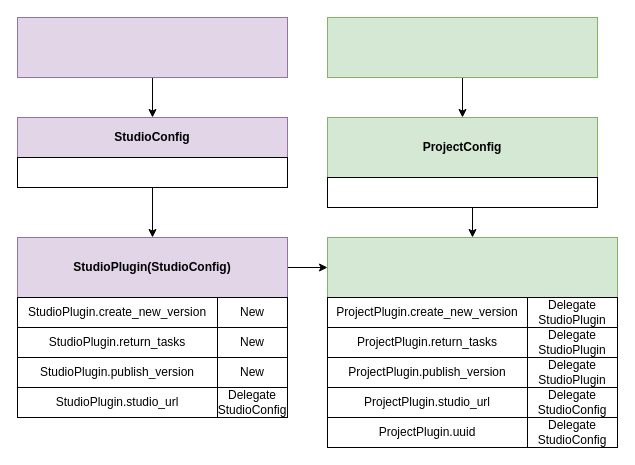
This 635x465 diagram has some shape labels left out. Each missing label, with the box of its shape:
PROJECT: (326, 16, 598, 78)
ProjectConfig.uuid= "uuid_value": (326, 176, 598, 208)
ProjectPlugin(StudioPlugin, ProjectConfig): (326, 236, 618, 298)
STUDIO: (16, 16, 288, 78)
StudioConfig.studio_url = "value": (16, 156, 288, 188)
